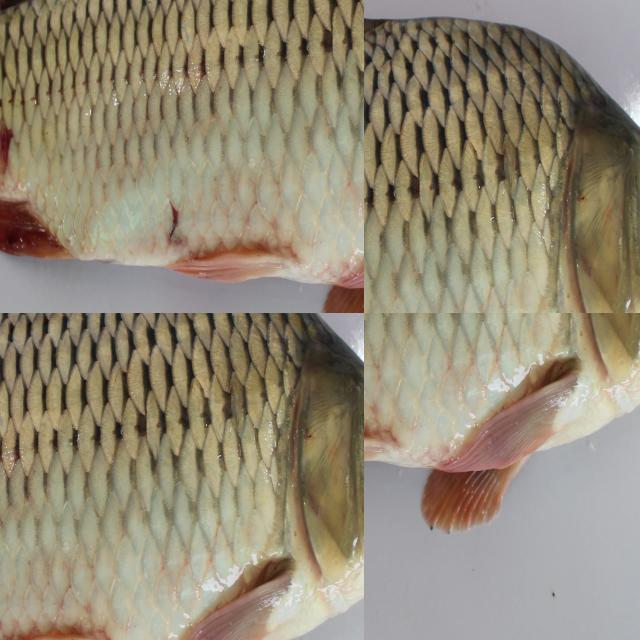fish: (364, 313, 640, 554)
